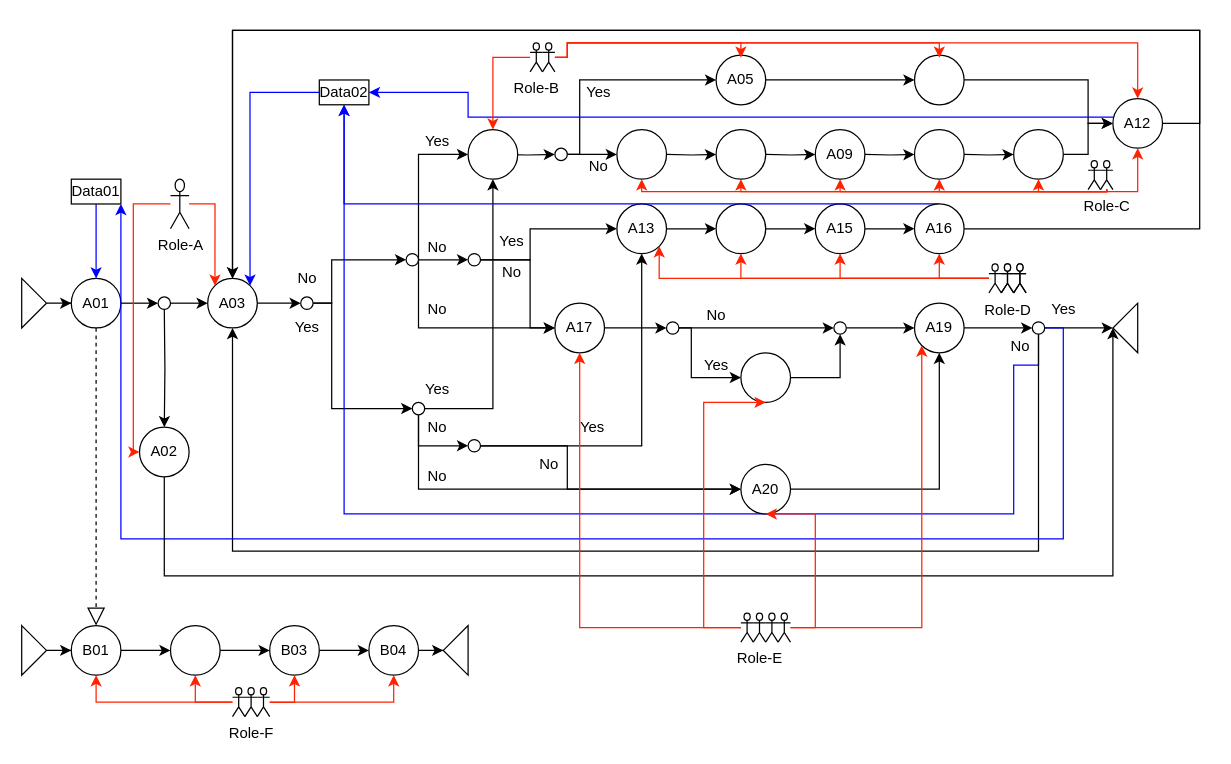
This 1231x764 diagram has some shape labels left out. The shapes that lost their labels are listed below. From the top down, each one's centre as x and y in pixels, then its label:
(x=938, y=79): A06
(x=492, y=153): A04
(x=641, y=153): A07
(x=740, y=153): A08
(x=938, y=153): A10
(x=1037, y=153): A11
(x=740, y=228): A14
(x=765, y=377): A18
(x=194, y=649): B02
